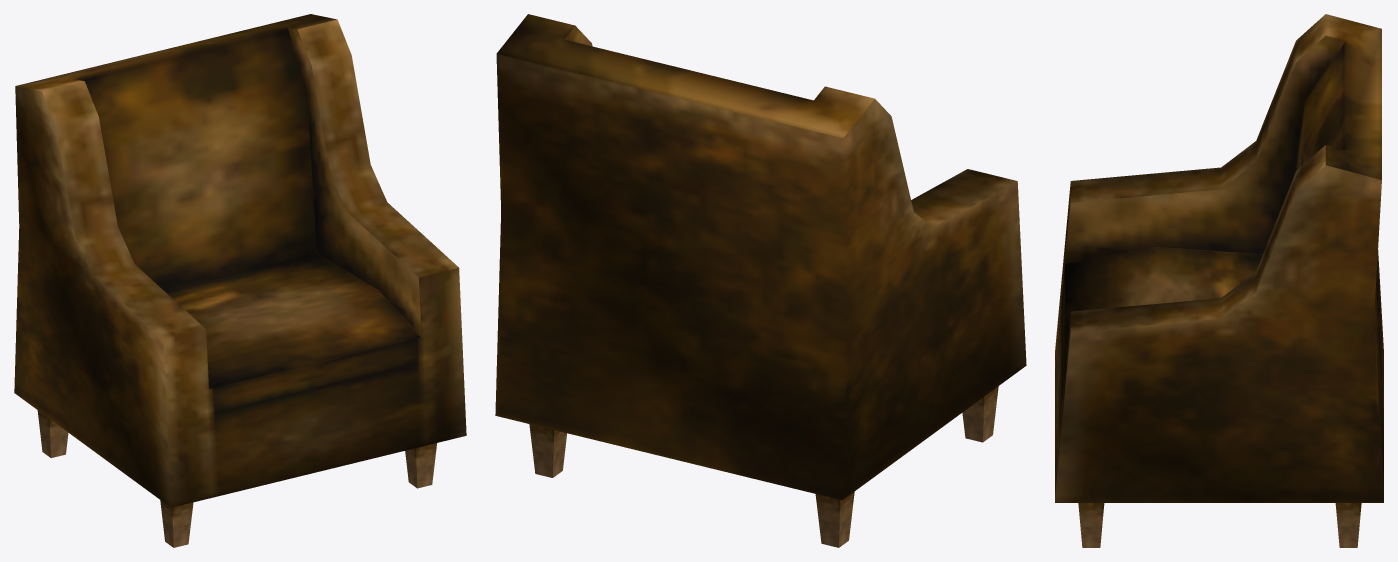
Rendered from chr_lrg_low_dirty.fbx.
3 views of the same model, side by side, from view 1: azimuth 30°, elevation 25°; view 2: azimuth 150°, elevation 25°; view 3: azimuth 270°, elevation 25° (orthographic). The views are drawn at different scales.
Parts seen in each view (by area): view 1: mesh_0; view 2: mesh_0; view 3: mesh_0.
Part boxes in pixels (box(x1,y1,x2,y2)): mesh_0: box(14, 14, 466, 547); mesh_0: box(495, 14, 1026, 547); mesh_0: box(1055, 14, 1383, 547).
Bounding box in the file's own units: 90.34 × 110 × 83.04.
1 material, 1 textured.
